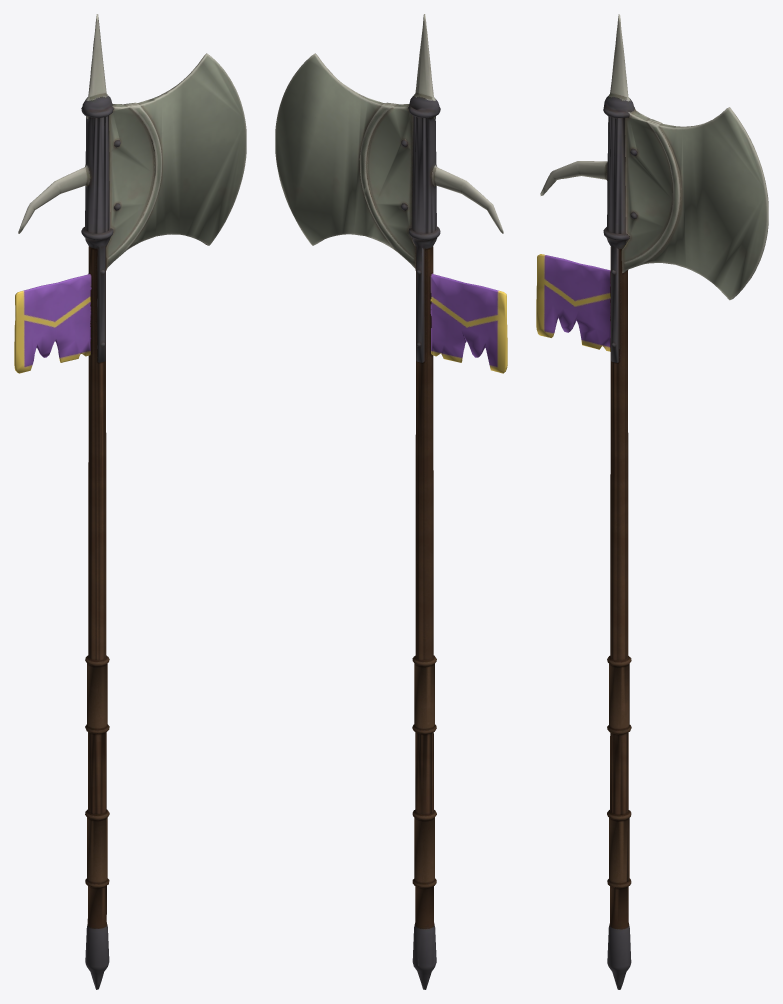
File: weapon_halberd_gold.glb
3 views of the same model, side by side, from view 1: azimuth 30°, elevation 25°; view 2: azimuth 150°, elevation 25°; view 3: azimuth 330°, elevation 25° (orthographic).
Visible parts, largest first — view 1: weapon_halberd_gold; view 2: weapon_halberd_gold; view 3: weapon_halberd_gold.
Part boxes in pixels (x1=…): weapon_halberd_gold: x1=14, y1=14, x2=246, y2=989; weapon_halberd_gold: x1=275, y1=14, x2=507, y2=989; weapon_halberd_gold: x1=536, y1=14, x2=768, y2=989.
Bounding box in the file's own units: 0.5358 × 2.15 × 0.0636.
Materials: 1 (1 with a texture image).
